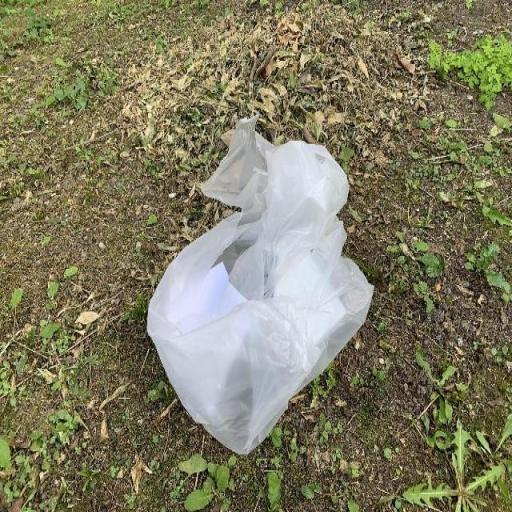polythene: (147, 117, 372, 454)
